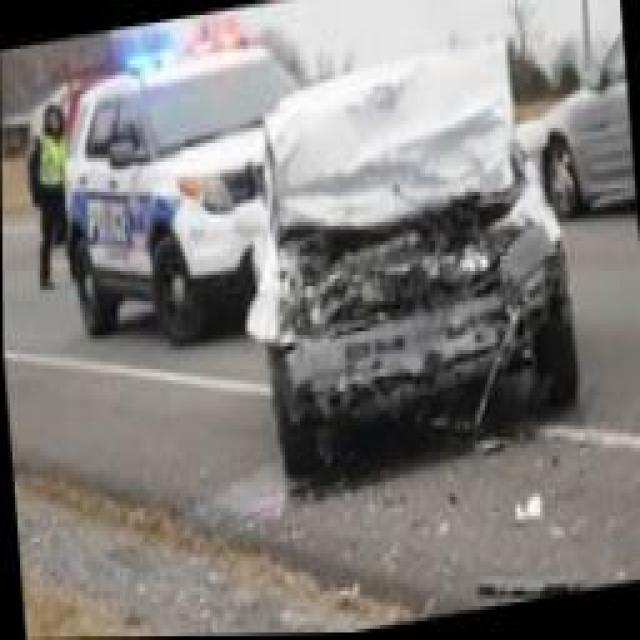Bonnet: (270, 35, 526, 278)
Bumper: (262, 248, 569, 415)
Light: (455, 211, 533, 297), (263, 278, 325, 332)
